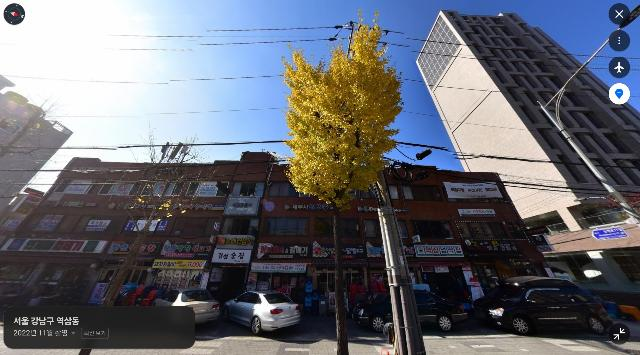ginkgo: (280, 8, 403, 355)
